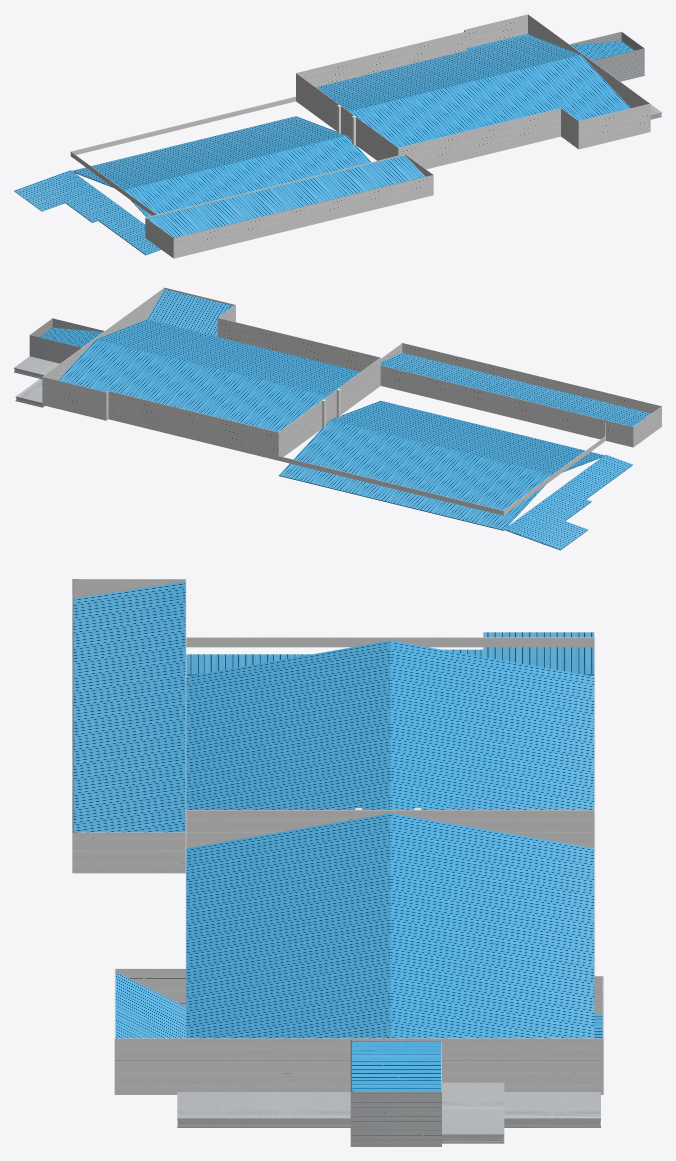
The model's file is 05_soubrain_1-2-2f.glb.
3 views of the same model, one above another, from view 1: azimuth 30°, elevation 25°; view 2: azimuth 150°, elevation 25°; view 3: azimuth 270°, elevation 25° (orthographic). The views are drawn at different scales.
Parts seen in each view (by area): view 1: p, Line150, Line152, Line153, Line154, Group130; view 2: p, Line152, Line150, Line153, Line154, Line151, Group130, Rectangle915; view 3: Line150, Line152, p, Line153, Rectangle915, Group130, Line154, Line151.
Boxes of the visible parts, bbox=[...] form: p: bbox=[70, 14, 650, 258]; Line150: bbox=[316, 35, 630, 147]; Line152: bbox=[72, 116, 371, 216]; Line153: bbox=[147, 41, 634, 237]; Line154: bbox=[14, 170, 161, 255]; Group130: bbox=[570, 31, 644, 81]; p: bbox=[42, 287, 661, 515]; Line152: bbox=[278, 400, 604, 530]; Line150: bbox=[58, 319, 360, 432]; Line153: bbox=[40, 327, 651, 426]; Line154: bbox=[504, 454, 632, 550]; Line151: bbox=[147, 289, 233, 336]; Group130: bbox=[29, 318, 104, 363]; Rectangle915: bbox=[14, 356, 59, 407]; Line150: bbox=[186, 813, 594, 1038]; Line152: bbox=[186, 640, 594, 809]; p: bbox=[72, 579, 603, 1094]; Line153: bbox=[73, 582, 440, 1091]; Rectangle915: bbox=[177, 1082, 600, 1143]; Group130: bbox=[350, 1040, 441, 1146]; Line154: bbox=[186, 632, 594, 675]; Line151: bbox=[115, 972, 602, 1038].
Bounding box in the file's own units: 75.98 × 6.31 × 30.71.
4 materials, 3 textured.
